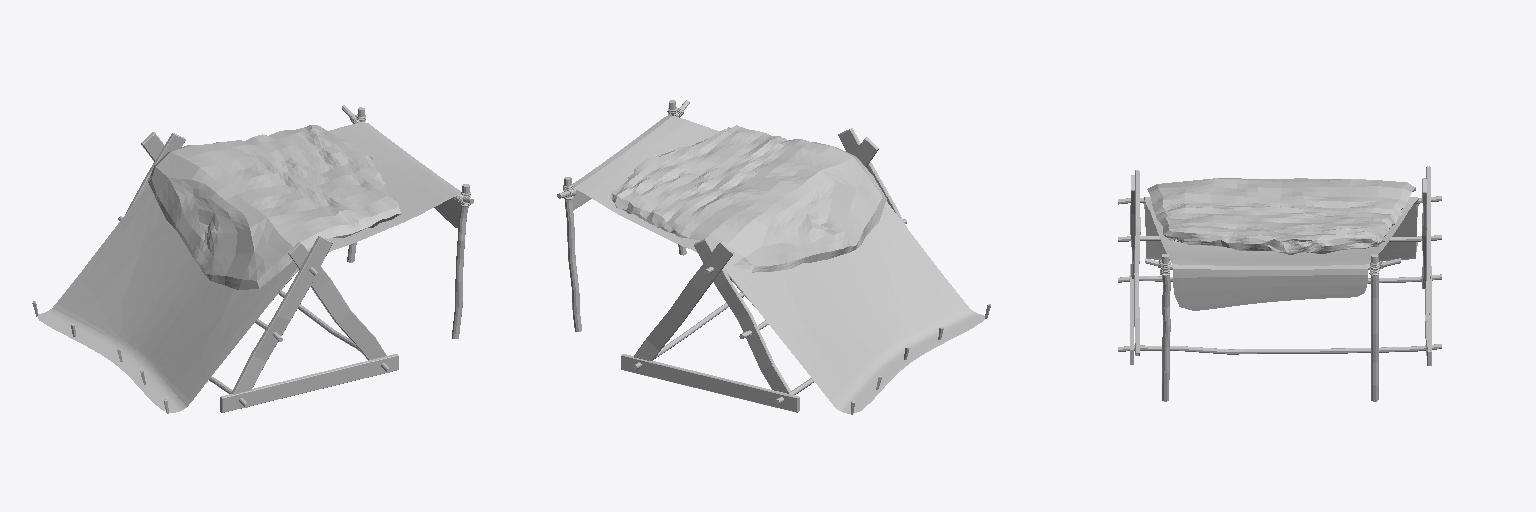
Rendered from midpoly_viking_tent_004.obj.
The picture shows the model from 3 angles: view 1: azimuth 30°, elevation 25°; view 2: azimuth 150°, elevation 25°; view 3: azimuth 270°, elevation 25°; orthographic projection.
Visible parts, largest first — view 1: Plane.002, Plane.001, Cube.015, Cube.017, Cube.014, Cylinder.124, Cube.016; view 2: Plane.002, Plane.001, Cube.012, Cube.013, Cube.016, Cylinder.125, Cube.015; view 3: Plane.001, Plane.002, Cylinder.123, Cylinder.125, Cylinder.124, Cube.014, Cube.013.
Boxes of the visible parts, x1,y1,x2,y2 form: Plane.002: [37, 122, 460, 412]; Plane.001: [148, 125, 400, 289]; Cube.015: [231, 236, 332, 394]; Cube.017: [220, 354, 398, 412]; Cube.014: [288, 242, 386, 360]; Cylinder.124: [452, 184, 469, 338]; Cube.016: [126, 133, 185, 212]; Plane.002: [572, 116, 984, 413]; Plane.001: [610, 125, 886, 272]; Cube.012: [621, 354, 799, 412]; Cube.013: [634, 241, 733, 360]; Cube.016: [694, 238, 792, 394]; Cylinder.125: [564, 177, 581, 331]; Cube.015: [838, 128, 906, 226]; Plane.001: [1147, 178, 1415, 254]; Plane.002: [1143, 197, 1418, 310]; Cylinder.123: [1118, 344, 1441, 354]; Cylinder.125: [1371, 254, 1378, 401]; Cylinder.124: [1162, 254, 1170, 401]; Cube.014: [1134, 170, 1140, 355]; Cube.013: [1425, 166, 1430, 355].
Size of the model in its own units: 10 by 4.61 by 8.92.